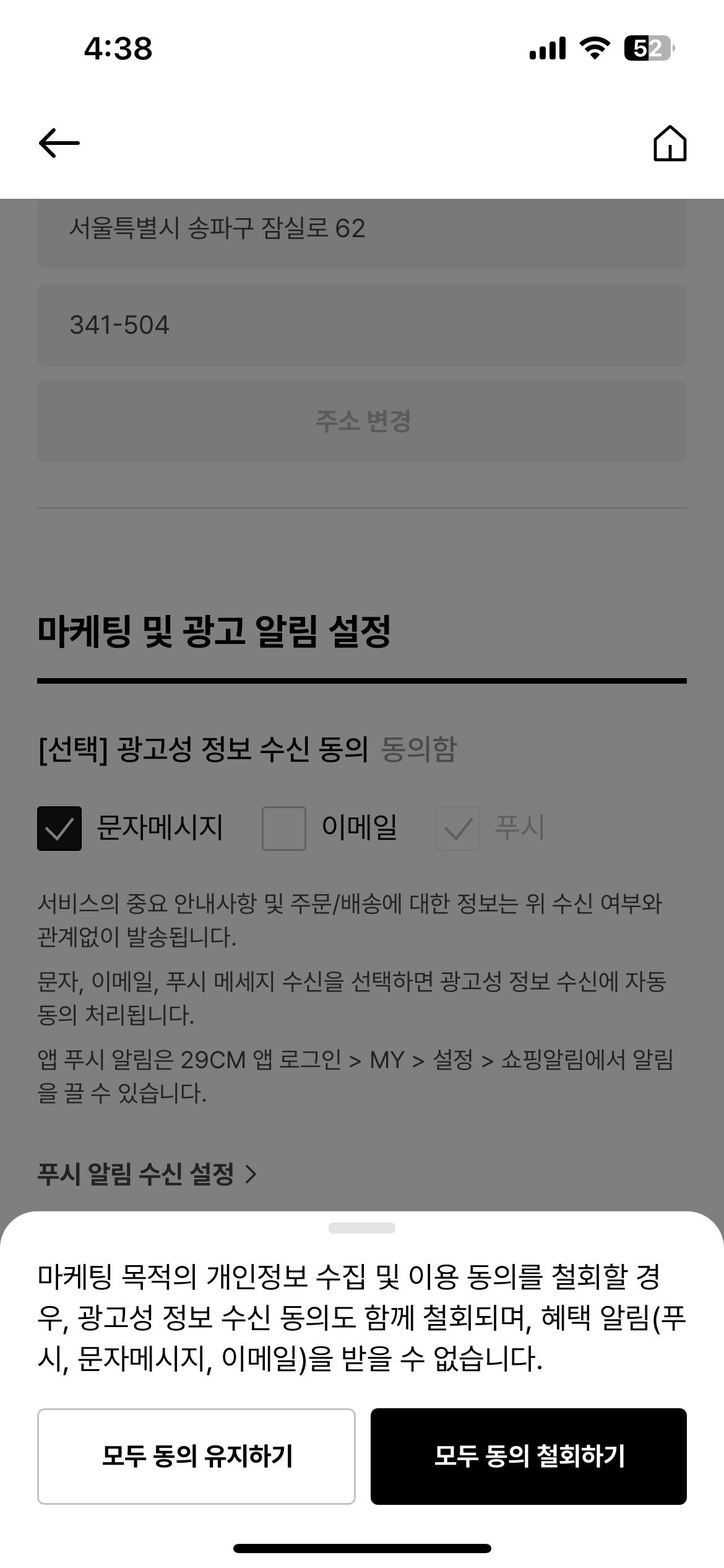button: (37, 378, 690, 463), (372, 1405, 687, 1507), (38, 1409, 356, 1503), (30, 1149, 265, 1205), (634, 99, 709, 189), (31, 108, 96, 181)
checkbox: (29, 793, 235, 858), (254, 791, 407, 863), (429, 800, 560, 865)
input_field: (48, 286, 679, 371), (40, 196, 688, 259)
